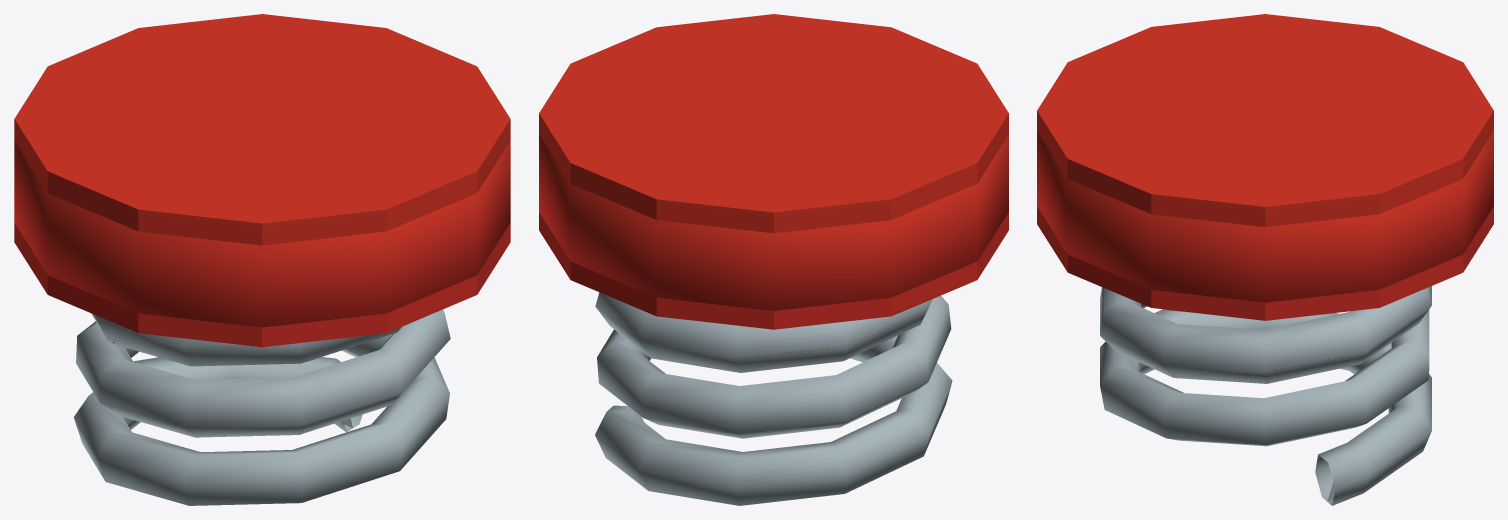
The model's file is bouncer.fbx.
The picture shows the model from 3 angles, left to right: view 1: azimuth 30°, elevation 25°; view 2: azimuth 150°, elevation 25°; view 3: azimuth 270°, elevation 25°; orthographic projection. The views are drawn at different scales.
Parts seen in each view (by area): view 1: bouncer low, bouncer; view 2: bouncer low, bouncer; view 3: bouncer low, bouncer.
Part boxes in pixels (x1=…): bouncer low: x1=14, y1=14, x2=510, y2=437; bouncer: x1=14, y1=141, x2=510, y2=505; bouncer low: x1=539, y1=14, x2=1008, y2=437; bouncer: x1=539, y1=134, x2=1008, y2=505; bouncer low: x1=1037, y1=14, x2=1493, y2=501; bouncer: x1=1037, y1=131, x2=1493, y2=505.
Bounding box in the file's own units: 150 × 122 × 150.
1 material, 1 textured.
